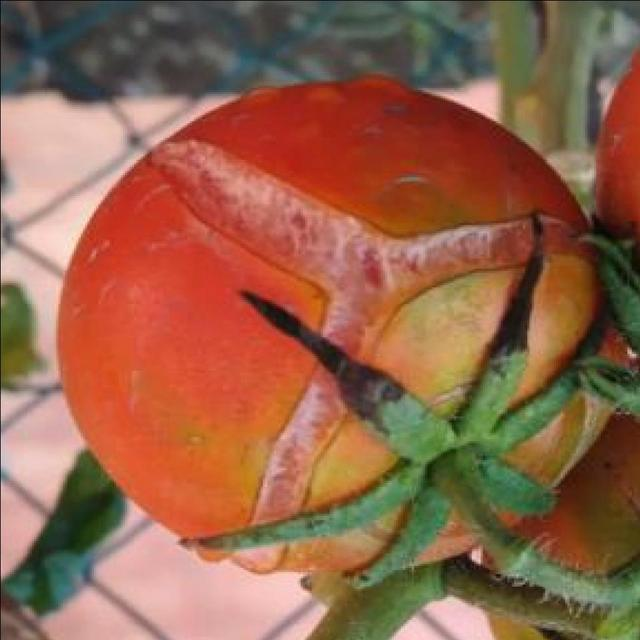Cracking Fruit: (74, 76, 396, 384)
